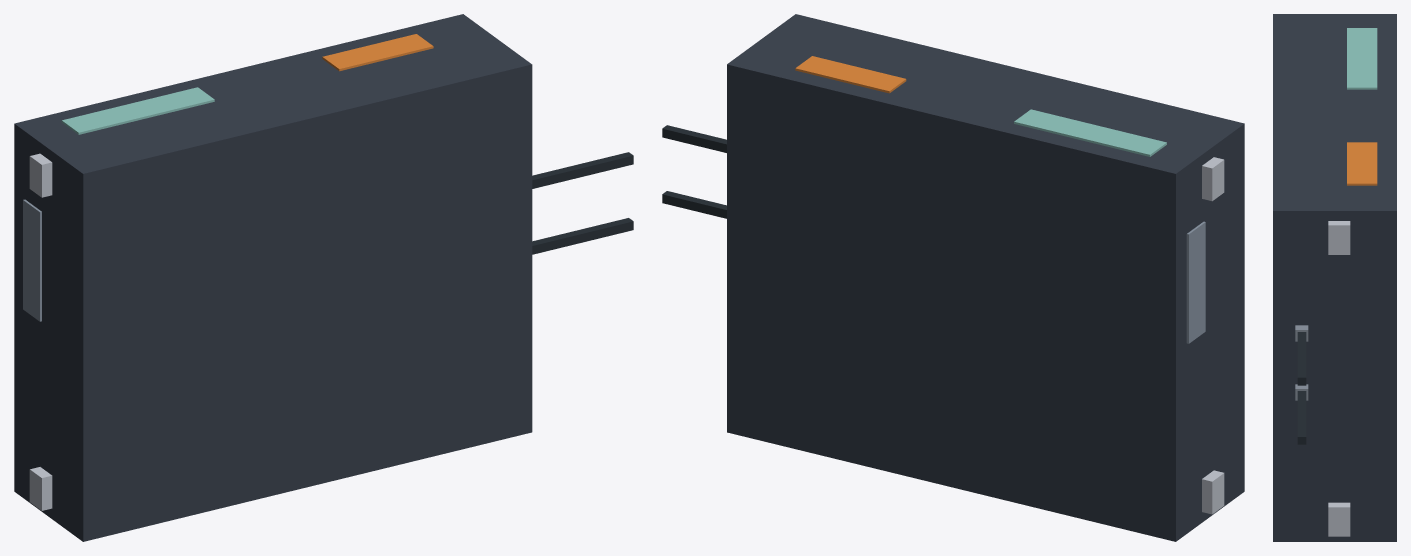
File: assembly-closed.obj
3 renders of one model, left to right at view 1: azimuth 30°, elevation 25°; view 2: azimuth 150°, elevation 25°; view 3: azimuth 270°, elevation 25°, orthographic. The views are drawn at different scales.
Visible parts, largest first — view 1: shell_lid_0, shell_base_3, shell_base_1, shell_lid_3, shell_lid_1, shell_base_0, vent_exhaust, port_panel, vent_membrane, ant_1, ant_2, clip_bl (+1 smaller); view 2: shell_base_0, shell_base_1, shell_base_3, shell_lid_3, shell_lid_1, shell_lid_0, vent_exhaust, port_panel, vent_membrane, ant_1, ant_2, clip_fl (+1 smaller); view 3: shell_base_2, shell_lid_2, shell_base_3, shell_lid_3, shell_base_0, shell_lid_0, vent_exhaust, vent_membrane, clip_fr, clip_br, ant_1, ant_2 (+2 smaller).
Boxes of the visible parts, x1,y1,x2,y2 form: shell_lid_0: [78, 61, 532, 541]; shell_base_3: [35, 21, 488, 149]; shell_base_1: [19, 123, 71, 521]; shell_lid_3: [72, 48, 510, 166]; shell_lid_1: [56, 150, 93, 537]; shell_base_0: [14, 14, 467, 494]; vent_exhaust: [61, 87, 214, 134]; port_panel: [23, 199, 41, 321]; vent_membrane: [322, 34, 433, 71]; ant_1: [532, 152, 633, 188]; ant_2: [532, 218, 633, 254]; clip_bl: [29, 153, 52, 197]; shell_base_0: [727, 61, 1180, 541]; shell_base_1: [1165, 139, 1217, 537]; shell_base_3: [748, 37, 1201, 166]; shell_lid_3: [784, 21, 1223, 139]; shell_lid_1: [1202, 123, 1239, 510]; shell_lid_0: [791, 14, 1244, 494]; vent_exhaust: [1014, 109, 1166, 156]; port_panel: [1186, 221, 1205, 343]; vent_membrane: [795, 56, 906, 93]; ant_1: [662, 125, 726, 152]; ant_2: [662, 191, 726, 218]; clip_fl: [1202, 470, 1224, 514]; shell_base_2: [1322, 204, 1388, 541]; shell_lid_2: [1281, 204, 1321, 541]; shell_base_3: [1322, 21, 1388, 203]; shell_lid_3: [1281, 21, 1321, 203]; shell_base_0: [1388, 14, 1396, 541]; shell_lid_0: [1273, 14, 1281, 541]; vent_exhaust: [1347, 28, 1377, 89]; vent_membrane: [1347, 142, 1377, 185]; clip_fr: [1328, 502, 1350, 536]; clip_br: [1328, 221, 1350, 254]; ant_1: [1297, 332, 1306, 385]; ant_2: [1297, 391, 1306, 444].
Bounding box in the file's own units: 549 × 344 × 114.
